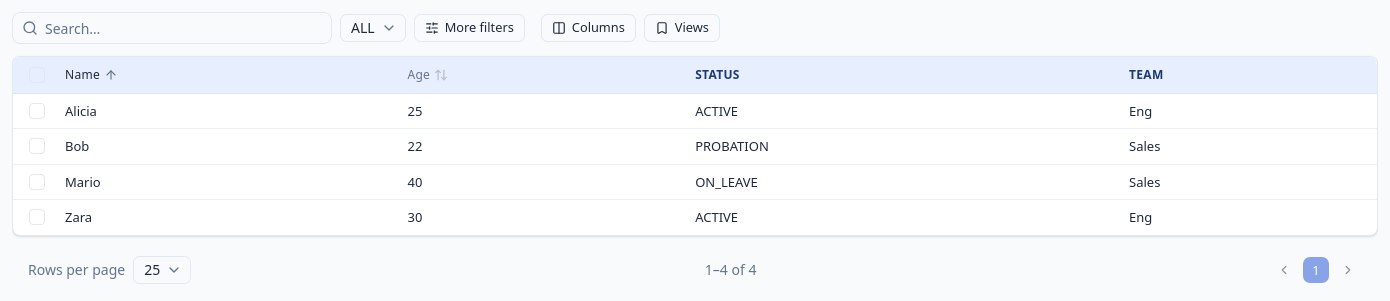
Test: HrisDataTable › filters rows by free text
This screenshot has width=1390, height=301.
Type "zara" into the search field named "Search table".
click(172, 28); type("zara")  # box x1=12 y1=12 x2=332 y2=44
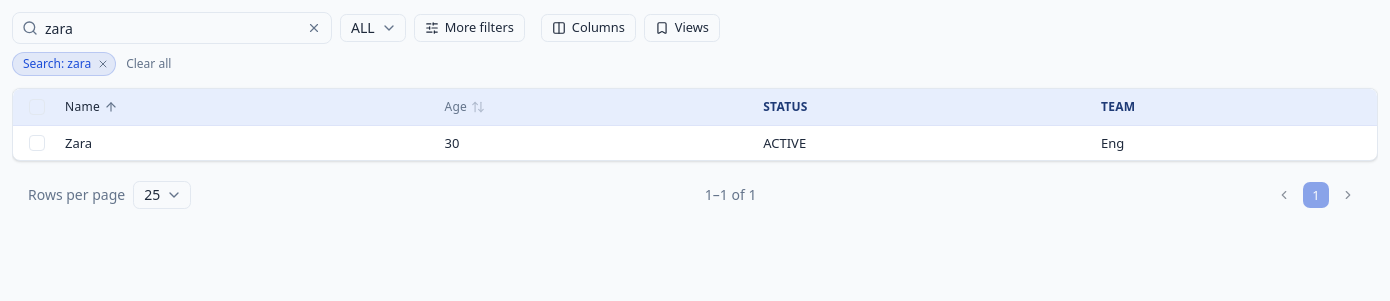
Check: the text "Zara" is shown, box x1=53 y1=125 x2=432 y2=160
Check: the text "Alicia" is gone
